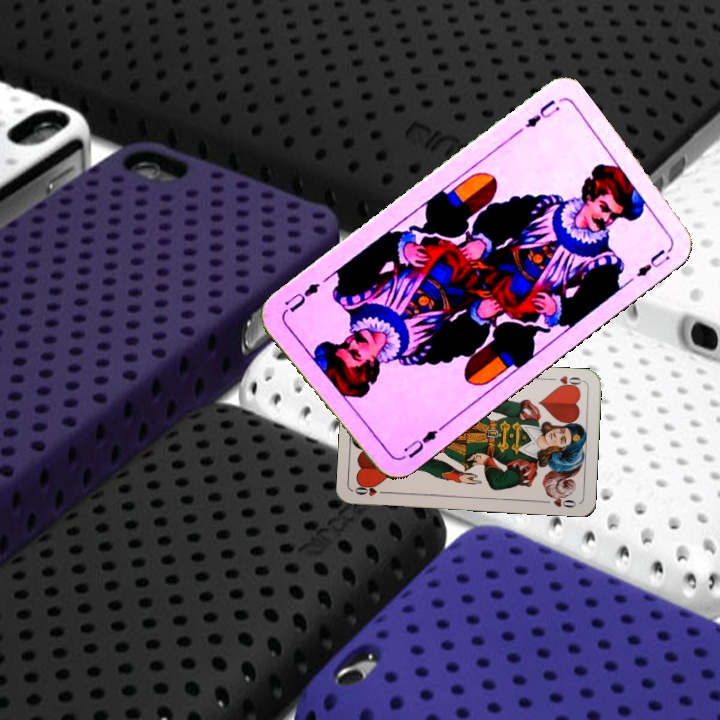EU: (399, 421, 446, 461), (521, 95, 563, 131)
HO: (545, 372, 585, 391), (351, 481, 391, 499)
